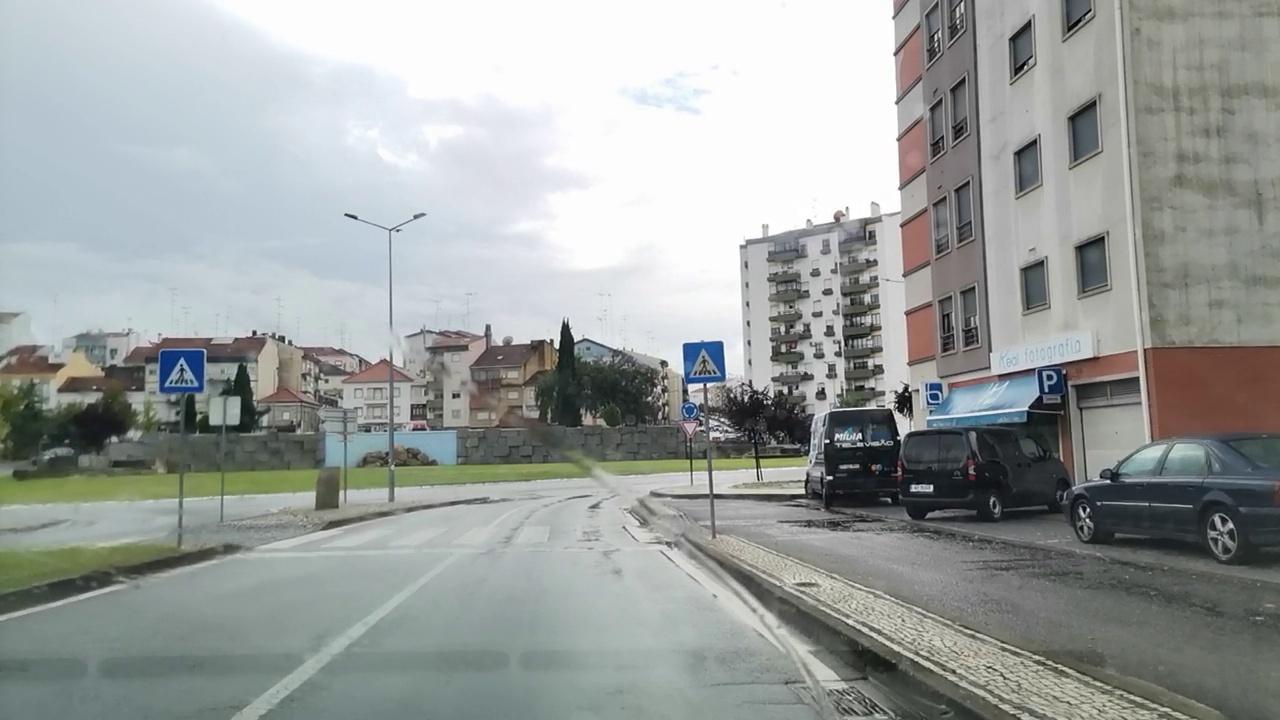Stairs: (263, 525, 676, 545)
